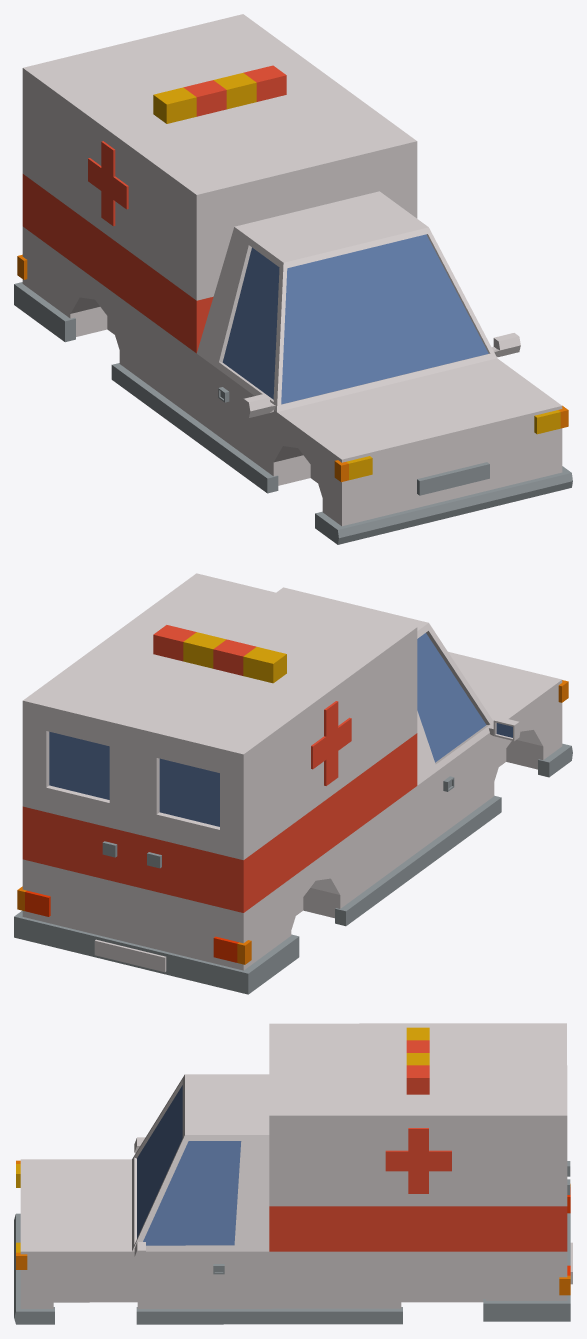
File: Car_11.fbx
The picture shows the model from 3 angles, top to bottom: view 1: azimuth 30°, elevation 25°; view 2: azimuth 150°, elevation 25°; view 3: azimuth 270°, elevation 25°; orthographic projection. The views are drawn at different scales.
Visible parts, largest first — view 1: Car_11; view 2: Car_11; view 3: Car_11.
Boxes of the visible parts, left/top/right/bottom form: Car_11: left=14, top=14, right=572, bottom=544; Car_11: left=14, top=573, right=572, bottom=994; Car_11: left=14, top=1023, right=572, bottom=1324.
Bounding box in the file's own units: 4.02 × 3.69 × 8.4.
